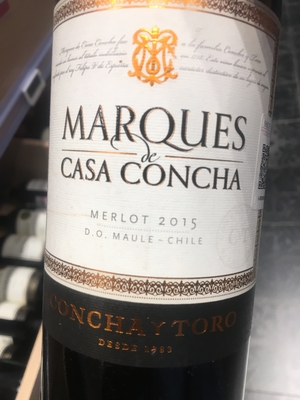marques de casa concha merlot: (52, 5, 279, 400)
